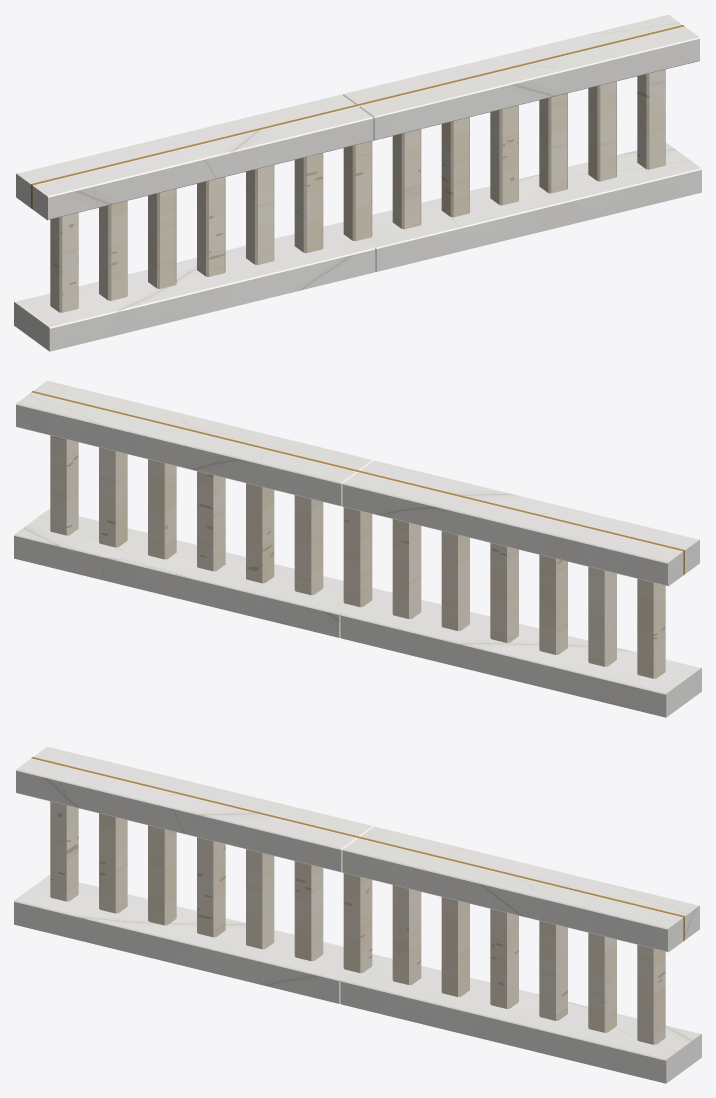
3 renders of one model, top to bottom at view 1: azimuth 30°, elevation 25°; view 2: azimuth 150°, elevation 25°; view 3: azimuth 330°, elevation 25°, orthographic.
Visible parts, largest first — view 1: Mesh_balustrade_4; view 2: Mesh_balustrade_4; view 3: Mesh_balustrade_4.
Boxes of the visible parts, x1=… form: Mesh_balustrade_4: x1=14, y1=14, x2=701, y2=351; Mesh_balustrade_4: x1=14, y1=380, x2=701, y2=717; Mesh_balustrade_4: x1=14, y1=746, x2=701, y2=1083.
Size of the model in its own units: 4 by 0.902 by 0.38.
1 material, 1 textured.
